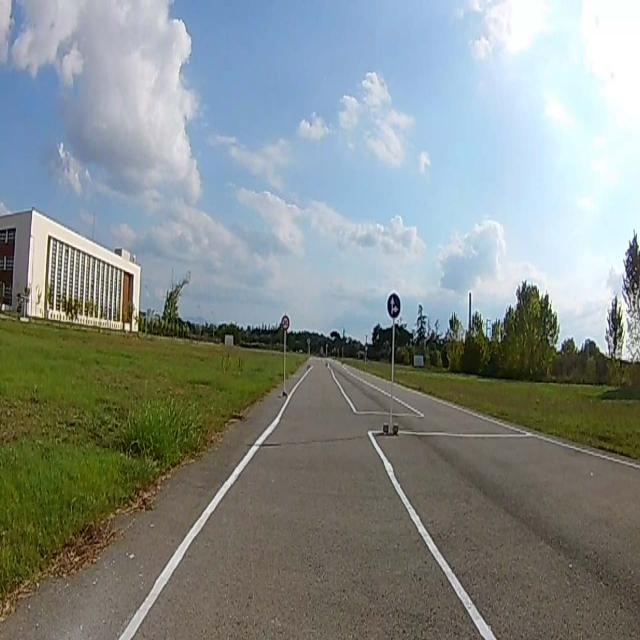ilerisag: (387, 294, 400, 316)
